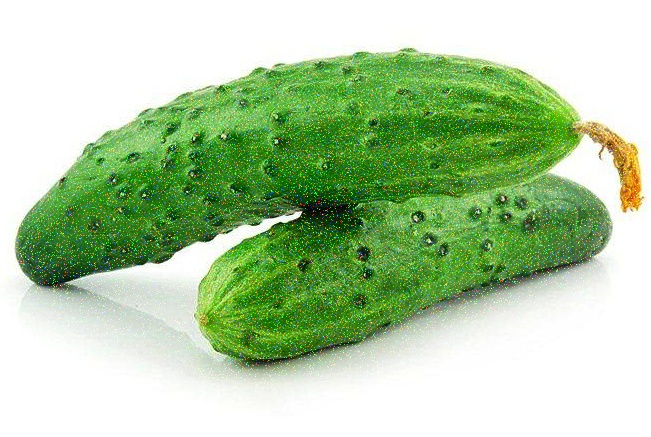cucumber: (25, 41, 584, 282), (214, 178, 607, 352)
